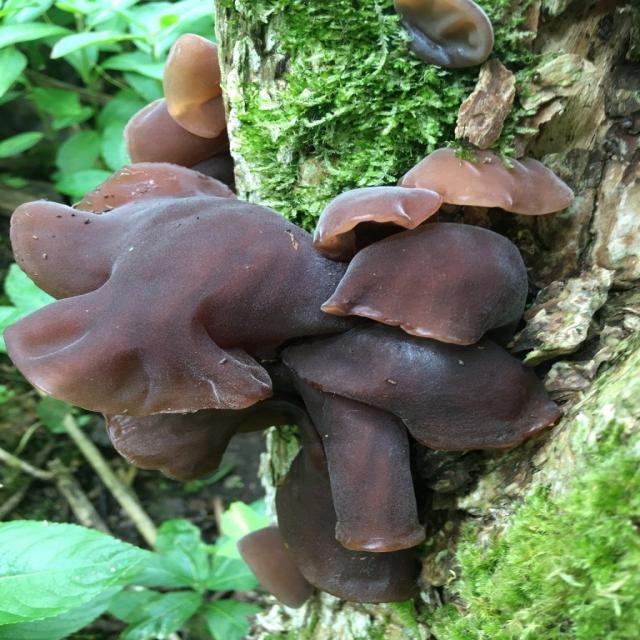Fase Muda: (394, 140, 577, 218), (314, 184, 442, 263), (389, 0, 500, 78), (122, 96, 235, 170), (164, 35, 234, 142)
Matang: (2, 162, 367, 418), (274, 322, 570, 456), (272, 397, 428, 607), (319, 219, 537, 350), (293, 362, 431, 556), (100, 396, 295, 486), (236, 523, 324, 615)
